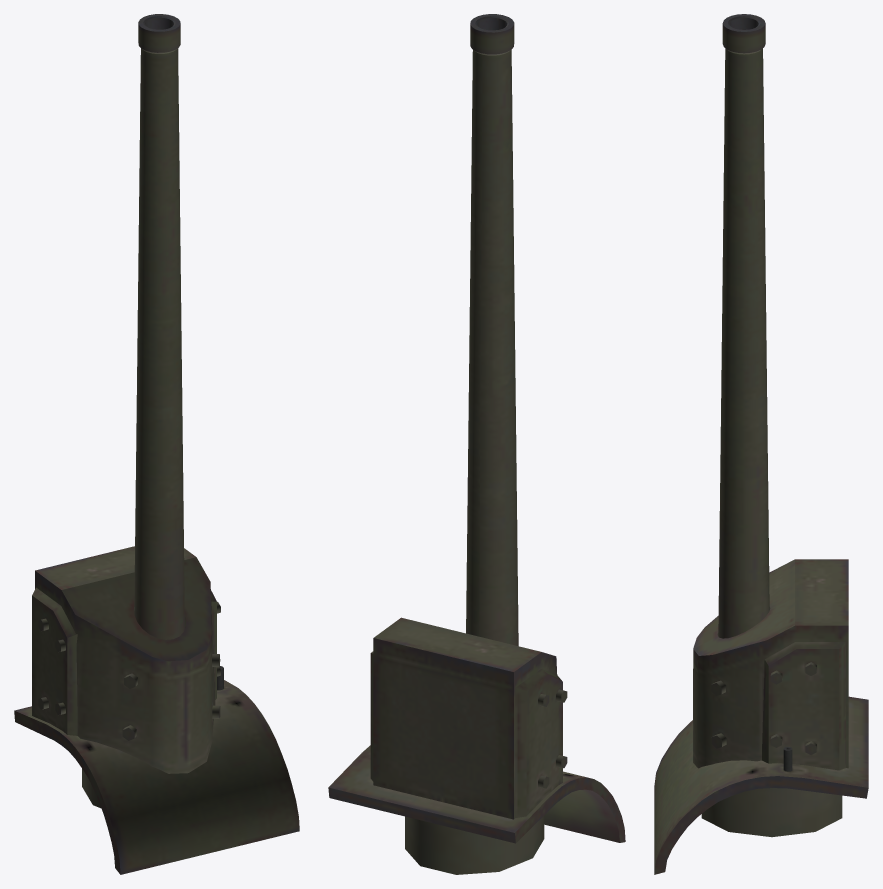
Rendered from Gun_02.glb.
The picture shows the model from 3 angles, left to right: view 1: azimuth 30°, elevation 25°; view 2: azimuth 150°, elevation 25°; view 3: azimuth 270°, elevation 25°; orthographic projection. The views are drawn at different scales.
Parts seen in each view (by area): view 1: set_0_group_0; view 2: set_0_group_0; view 3: set_0_group_0.
Boxes of the visible parts, box(x1,y1,x2,y2) form: set_0_group_0: box(14, 14, 299, 874); set_0_group_0: box(328, 14, 625, 874); set_0_group_0: box(654, 14, 868, 874).
Size of the model in its own units: 0.5512 by 2.32 by 0.561.
1 material, 1 textured.
